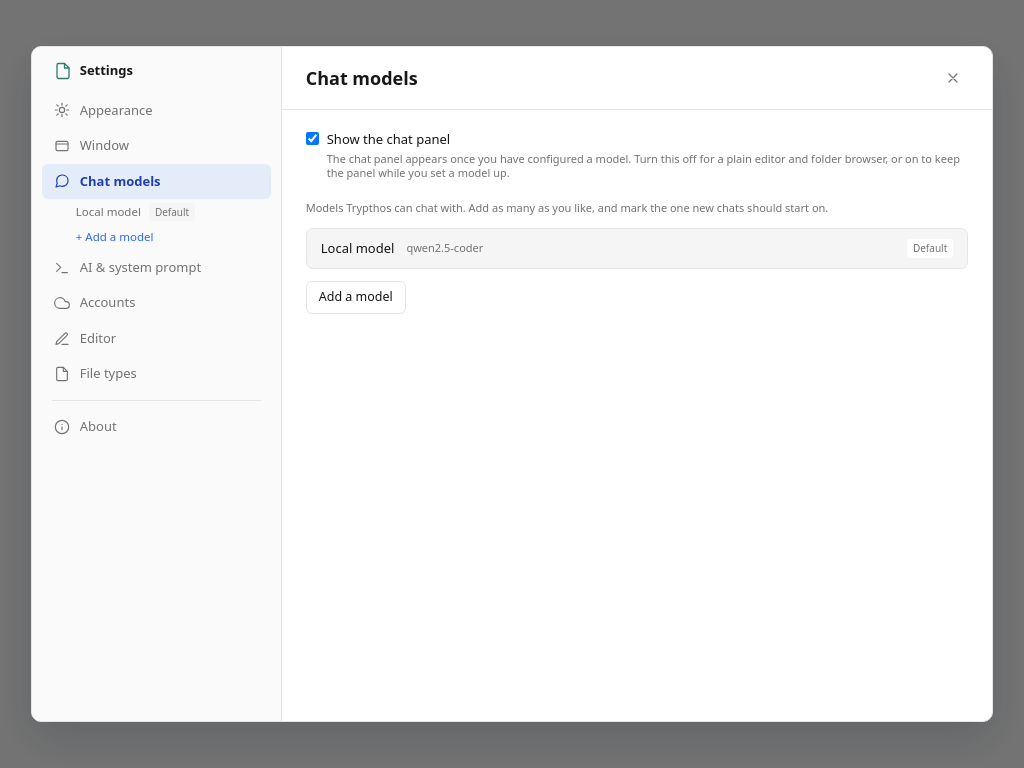
Test case: SettingsDialog: API keys › says no key is stored for an endpoint that has none
The width and height of the screenshot is (1024, 768).
Click the button with aria-label "Edit Local model".
click(156, 212)  # box x1=42 y1=199 x2=271 y2=225
(page scrolled)
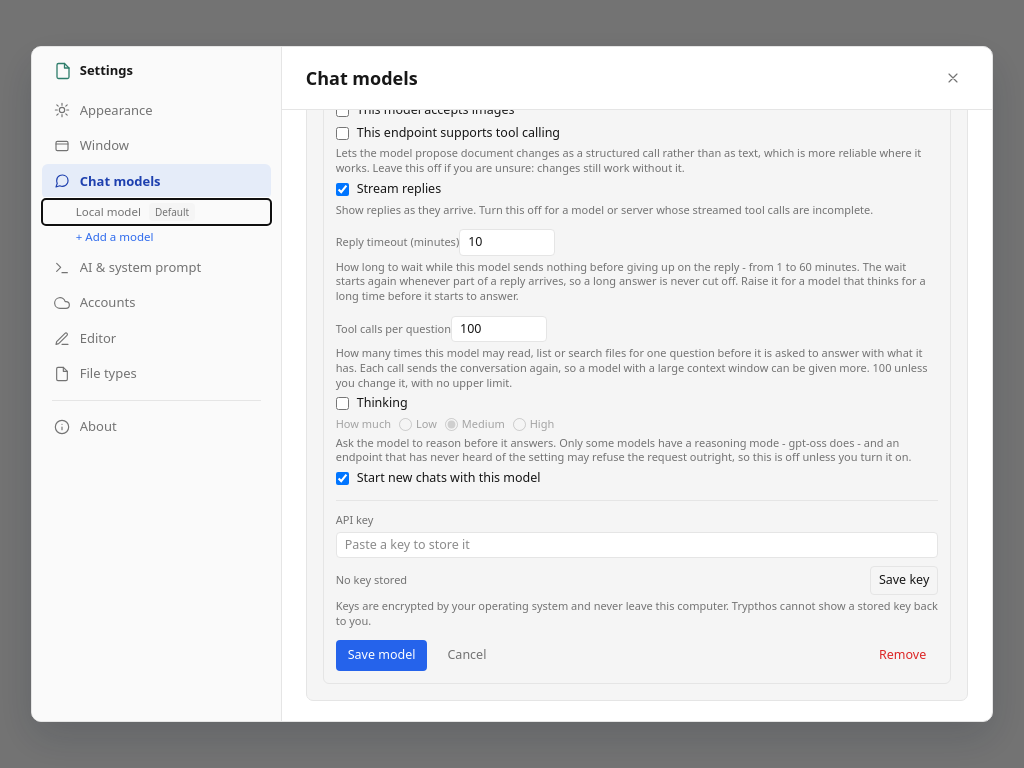
expect the text "No key stored" is shown: met, box x1=336 y1=573 x2=407 y2=588
